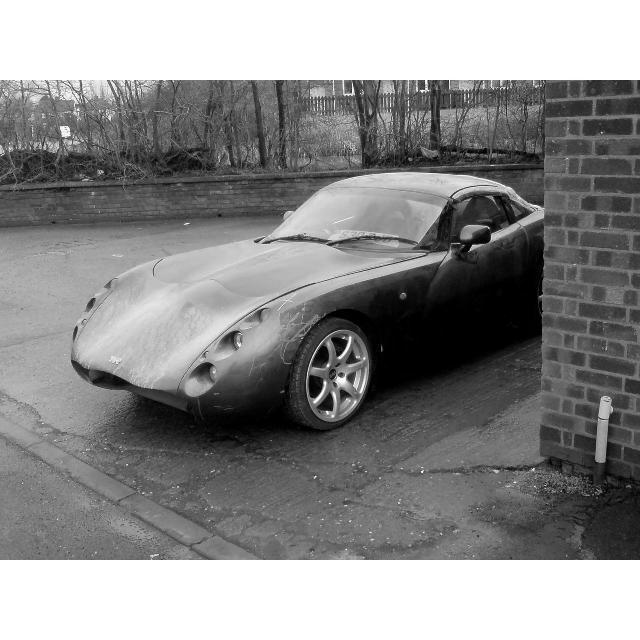fender-dent: (263, 289, 349, 385)
